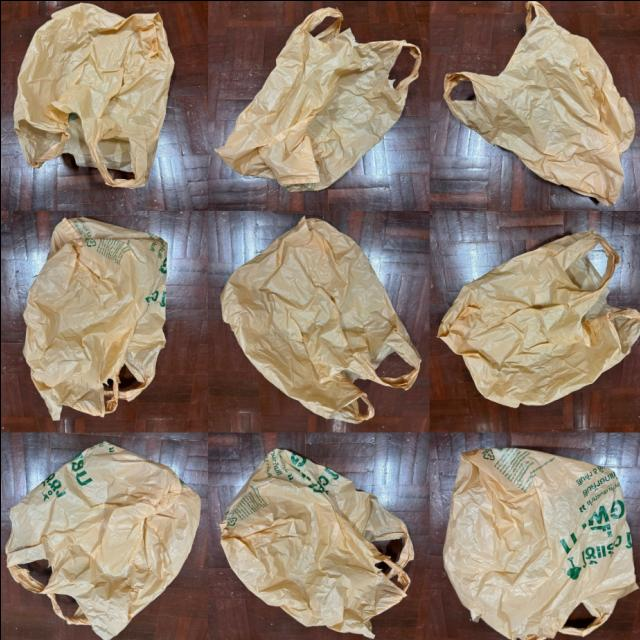plastik: (221, 217, 421, 423), (443, 0, 634, 205), (5, 441, 200, 640), (215, 7, 421, 191), (443, 447, 636, 640), (219, 448, 413, 636), (437, 231, 640, 406), (13, 3, 174, 186), (23, 217, 166, 419)
